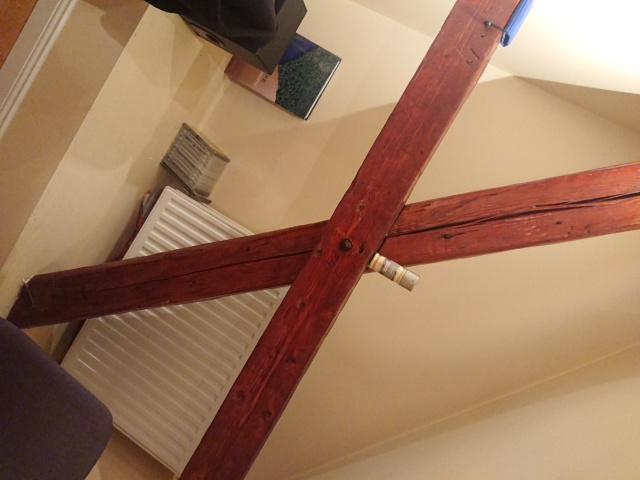Kotanyi Garlic Granules 70g: (364, 249, 421, 293)
